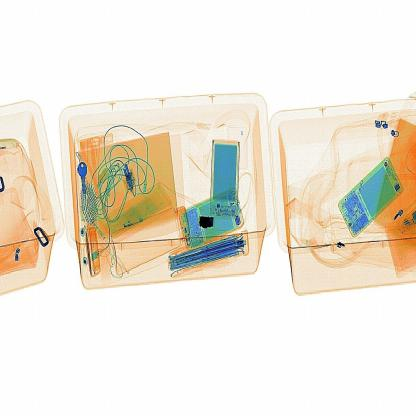scissors: (196, 209, 220, 241)
